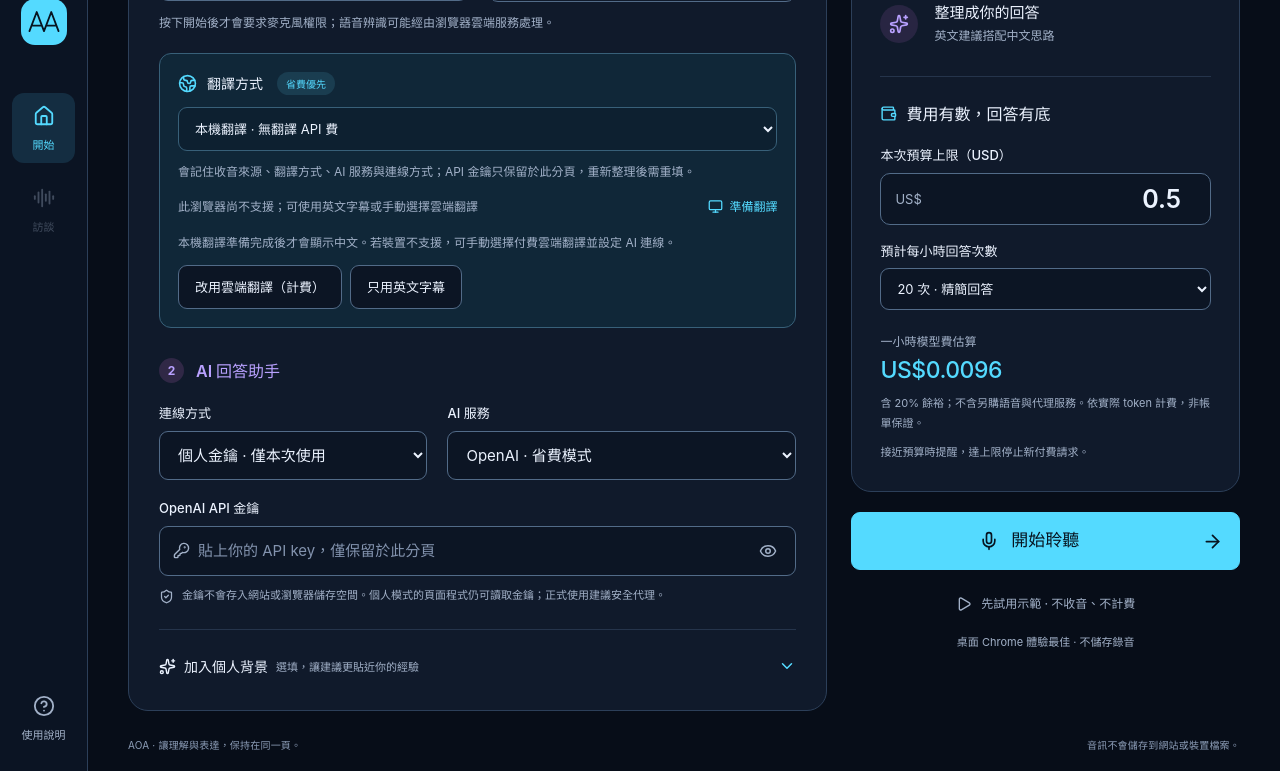
it: translation readiness before starting › starts local translation only after preparation succeeds
(page scrolled)
Click the button "開始聆聽" at [1046, 541], box 851,512 -> 1240,570
(page scrolled)
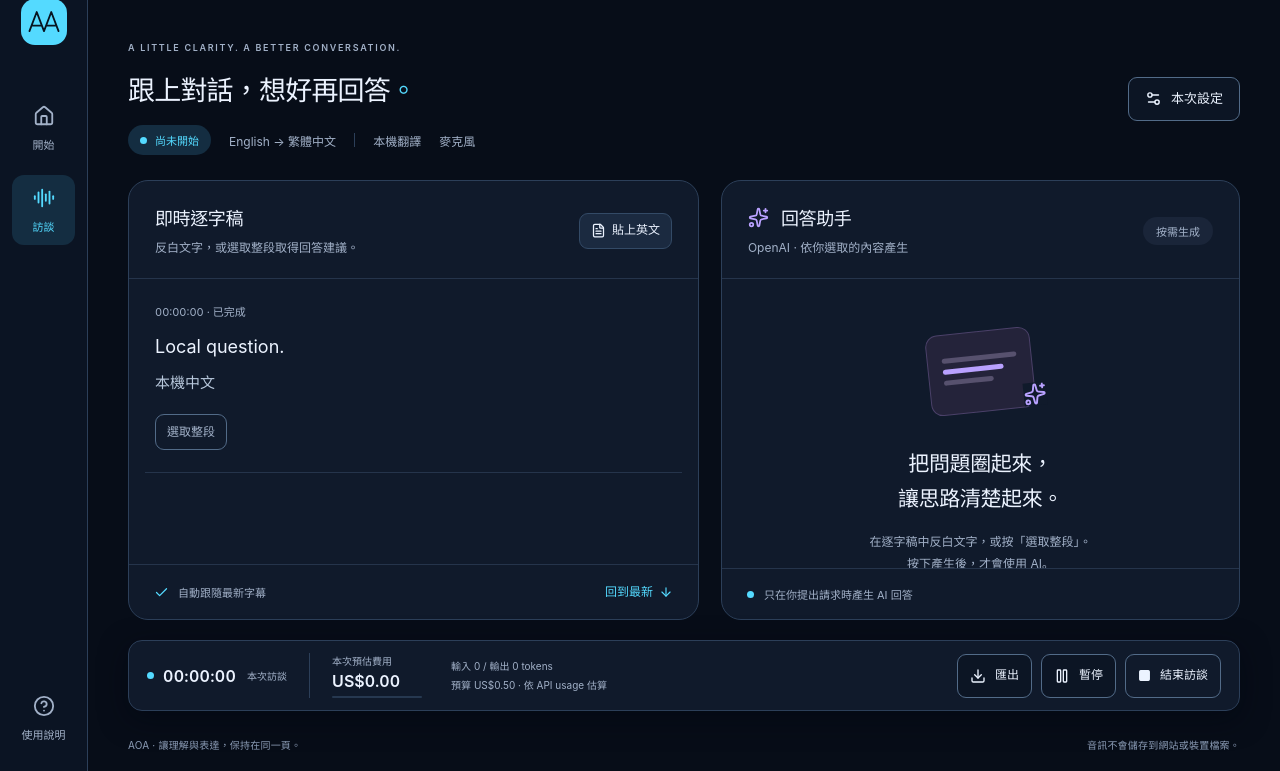
Check: the text "本機中文" is shown, box 155,374 -> 215,392
